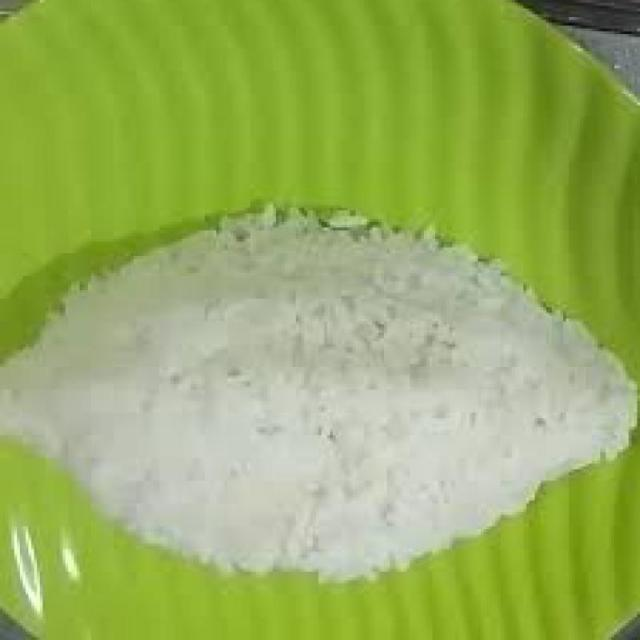nasi_putih: (0, 200, 640, 580)
